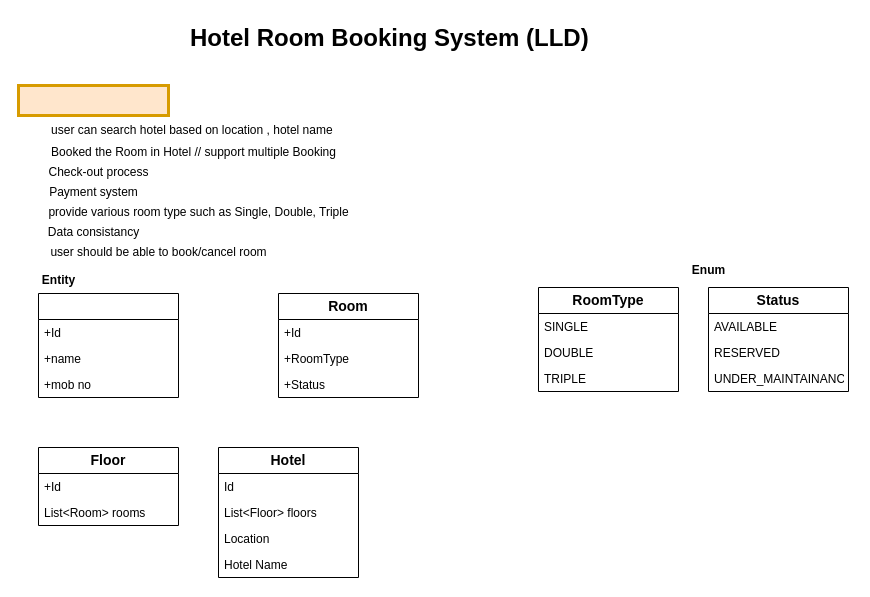
Image size: 870x597. Some labels were removed from this diagram. The shapes that lost their labels are listed below. From the top down, each one's box as (x1, y1, x2, y2) in pixels, then its label:
(16, 84, 170, 116): Function Requirement
(38, 292, 178, 398): User
